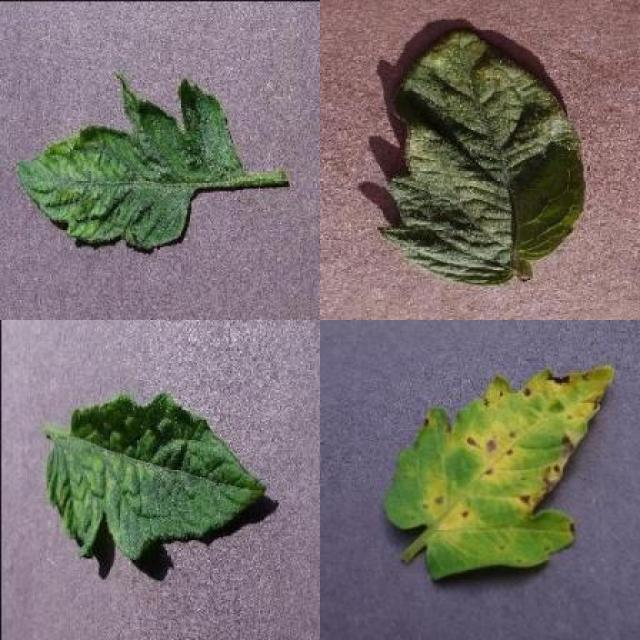Mosaic Virus: (15, 71, 242, 252), (46, 391, 266, 564)
Septoria: (388, 362, 618, 584)
Spider Mites: (380, 27, 586, 286)
